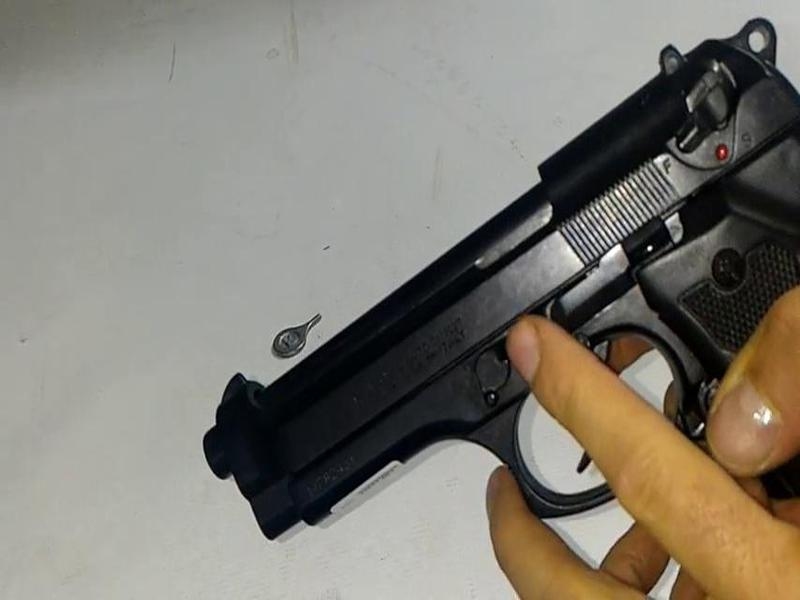Pistola: (190, 18, 757, 529)
